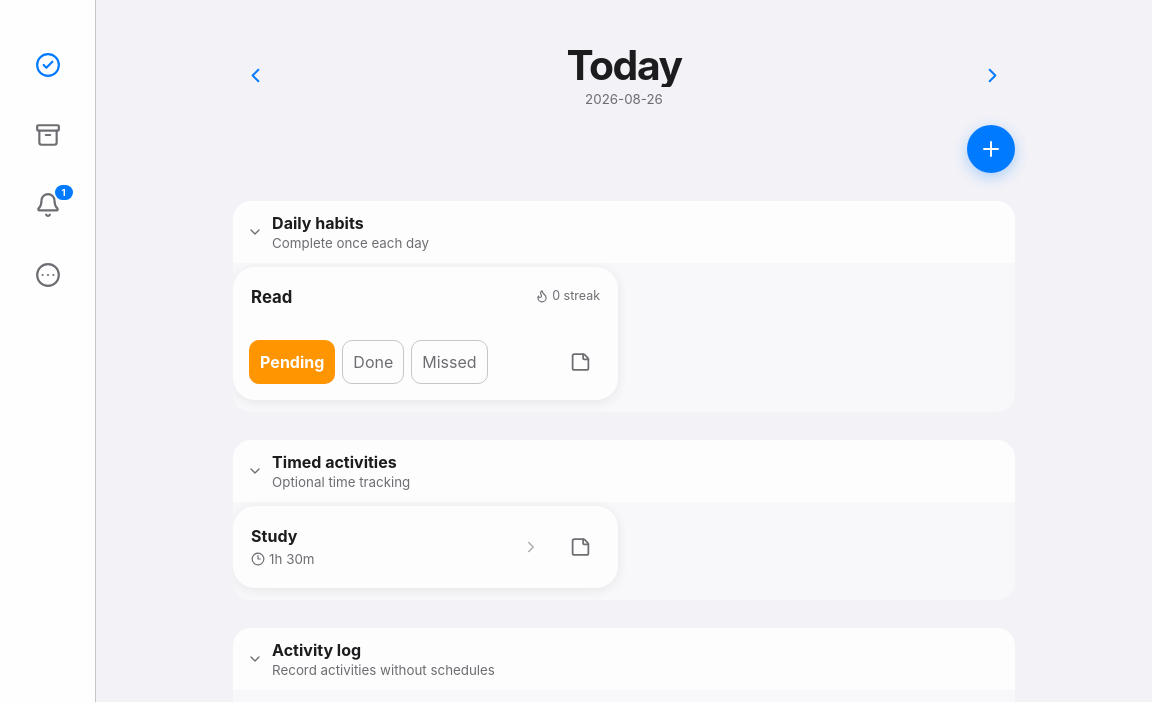
Test case: Habit Tracker › keeps daily streaks glanceable and places timed statistics in the activity sheet
Expected: the text "0 streak" is shown, [535,288,600,303]
Click the button with aria-label "Open Study".
click(274, 536)  # box [249,522,542,571]
(page scrolled)
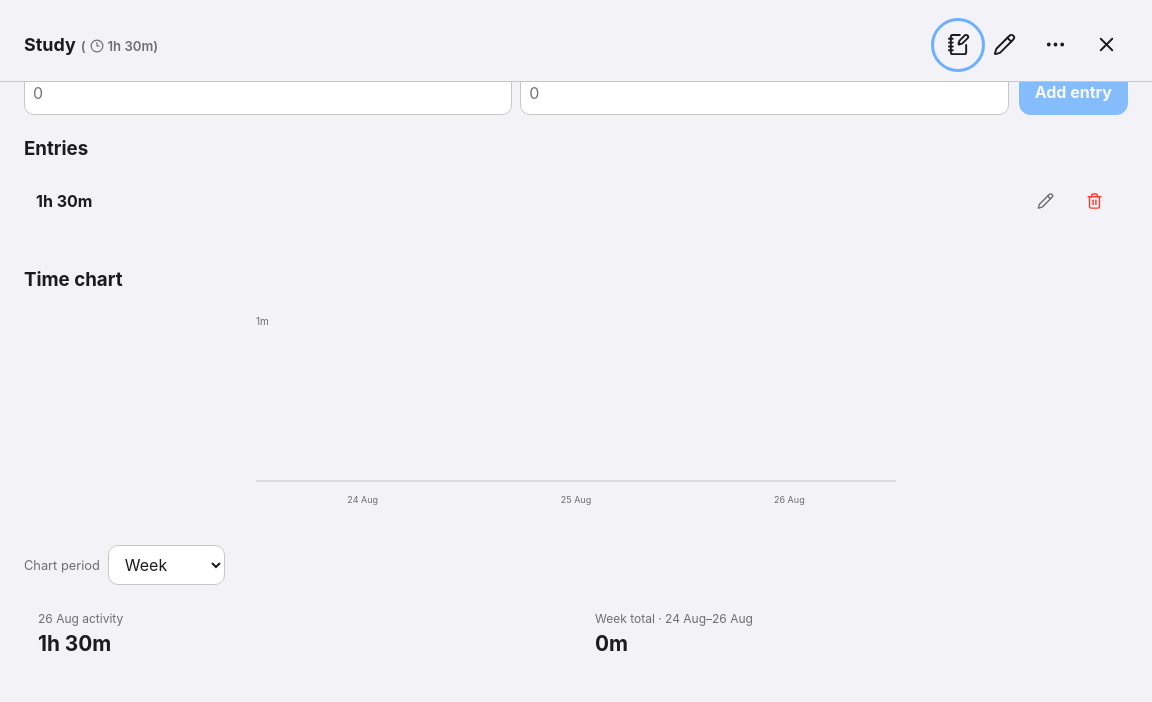
Now the heading "Time chart" is shown, box [24,268,122,291]
Now the text "Week total · 24 Aug–26 Aug" is shown, box [595,611,753,626]
